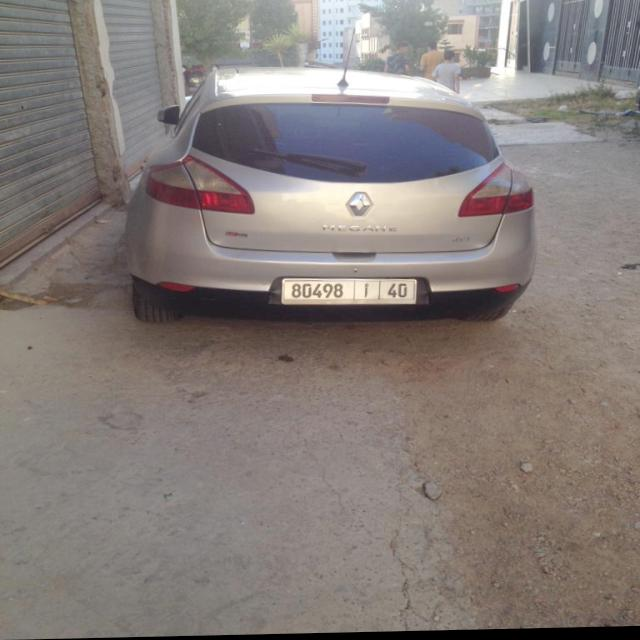License-Plate: (282, 280, 417, 306)
